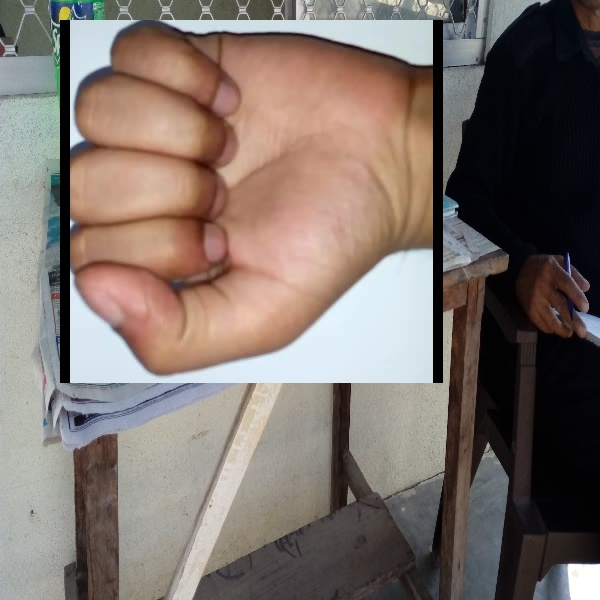F: (60, 20, 443, 383)
